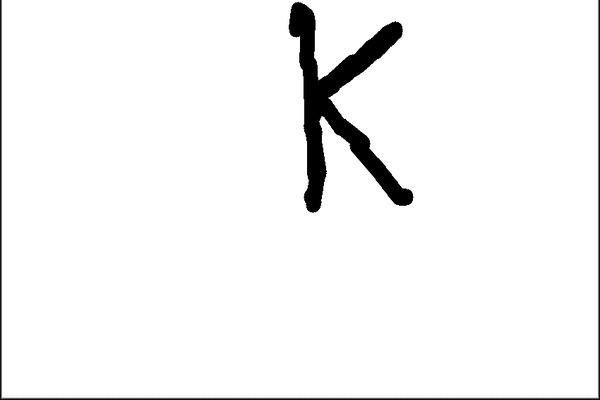K: (277, 0, 423, 223)
